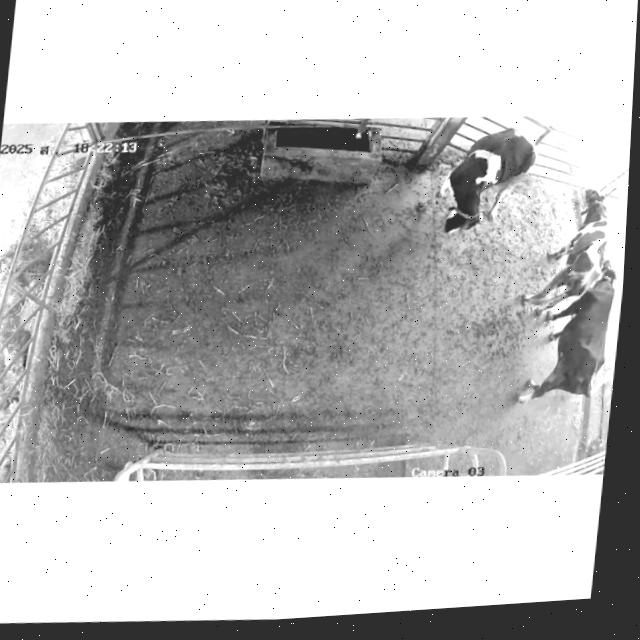stand: (429, 116, 549, 244), (518, 259, 616, 402), (522, 188, 608, 313)
